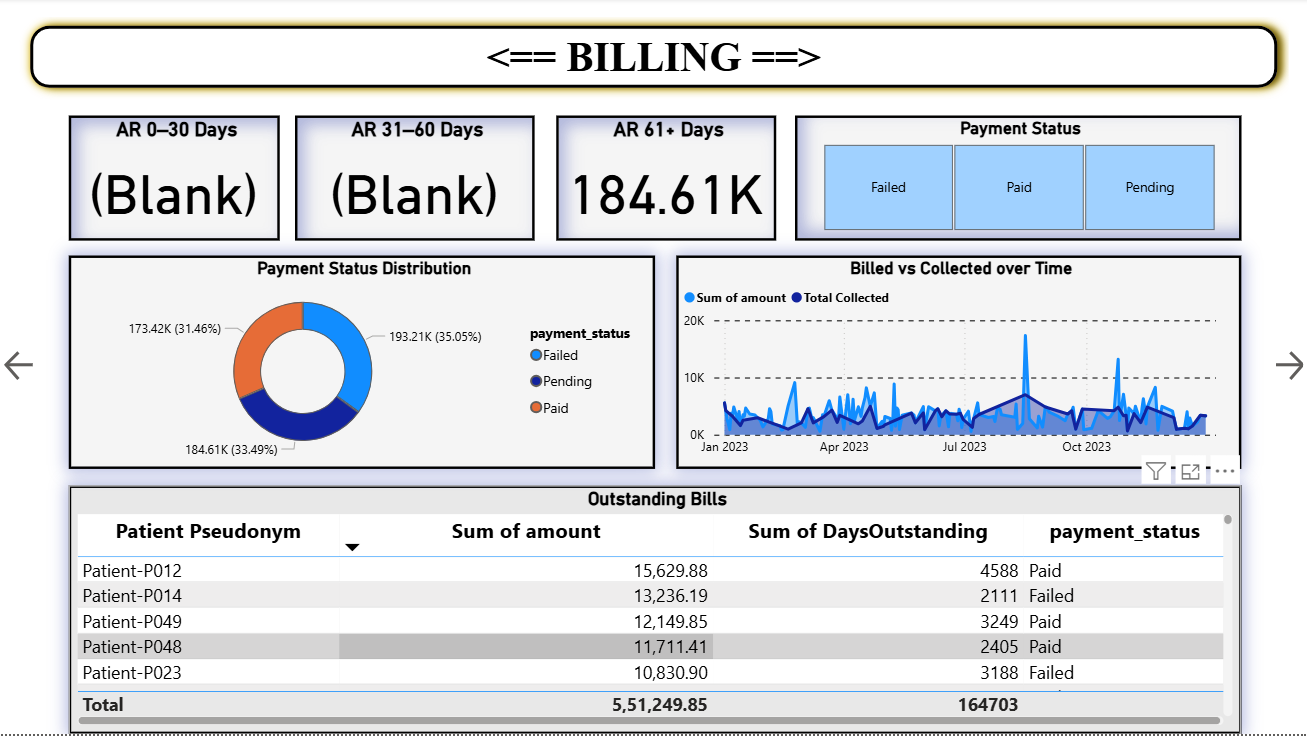

Layout of this report page (visuals, bound fields, positions):
{"tool":"powerbi","page":{"name":"Billing","canvas":[1280,720],"ordinal":4},"visuals":[{"type":"areaChart","title":"Billed vs Collected over Time","fields":{"Category":["billing.bill_date"],"Y":["Sum(billing.amount)","measurse.Total Collected"]},"box":[661.6,251.9,552.7,209.1],"z":0},{"type":"donutChart","title":"Payment Status Distribution","fields":{"Category":["billing.payment_status"],"Y":["Sum(billing.amount)"]},"box":[67.3,251.9,573.5,209.1],"z":1000},{"type":"card","title":"AR 61+ Days","fields":{"Values":["billing.AR_61_plus"]},"box":[544.2,114.9,215.2,122.3],"z":2000},{"type":"card","title":"AR 0–30 Days","fields":{"Values":["billing.AR_0_30"]},"box":[67.3,114.9,206.7,122.3],"z":3000},{"type":"card","title":"AR 31–60 Days","fields":{"Values":["billing.AR_31_60"]},"box":[288.6,114.9,234.8,122.3],"z":4000},{"type":"tableEx","title":"Outstanding Bills","fields":{"Values":["patients.Patient Pseudonym","Sum(billing.amount)","Sum(billing.DaysOutstanding)","billing.payment_status"]},"box":[67.3,476.9,1147,243.3],"z":5000},{"type":"slicer","title":"Payment Status","fields":{"Values":["billing.payment_status"]},"box":[777.7,114.9,436.6,122.3],"z":6000},{"type":"shape","box":[18.3,15.9,1242.4,83.2],"z":7000},{"type":"actionButton","box":[1242.1,298.4,37.9,122.3],"z":8000},{"type":"actionButton","box":[0,298.4,37.9,122.3],"z":9000}]}

Visuals, with their boxes in screenshot pixels (x1, y1, x2, y2), scaled from the page's 1280x720 canvas onto the 1307x736 screenshot:
"Billed vs Collected over Time" areaChart: [left=676, top=257, right=1240, bottom=471]
"Payment Status Distribution" donutChart: [left=69, top=257, right=654, bottom=471]
"AR 61+ Days" card: [left=556, top=117, right=775, bottom=242]
"AR 0–30 Days" card: [left=69, top=117, right=280, bottom=242]
"AR 31–60 Days" card: [left=295, top=117, right=534, bottom=242]
"Outstanding Bills" tableEx: [left=69, top=487, right=1240, bottom=735]
"Payment Status" slicer: [left=794, top=117, right=1240, bottom=242]
shape: [left=19, top=16, right=1287, bottom=101]
actionButton: [left=1268, top=305, right=1306, bottom=430]
actionButton: [left=0, top=305, right=39, bottom=430]
